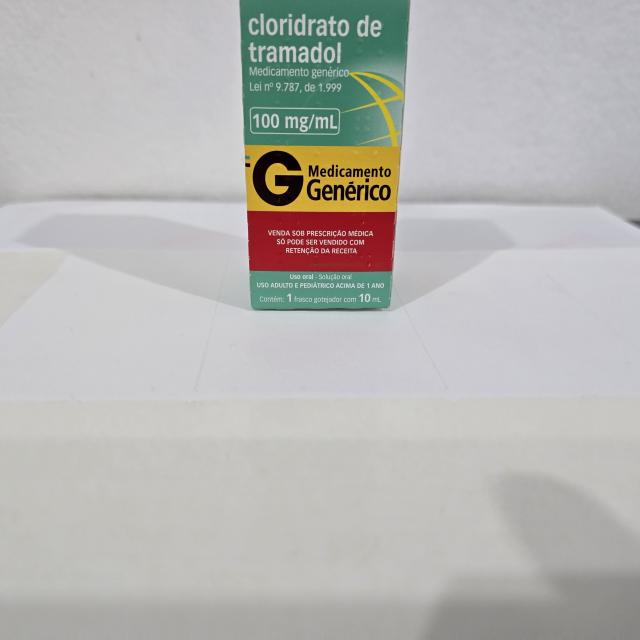tramadol: (237, 0, 414, 318)
